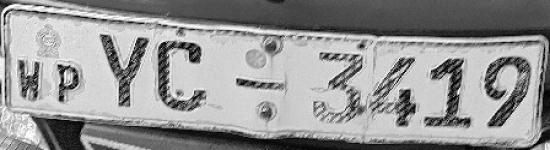-: (232, 75, 287, 95)
1: (425, 54, 473, 132)
3: (310, 49, 365, 128)
4: (368, 53, 421, 129)
9: (478, 50, 533, 136)
C: (154, 35, 209, 116)
P: (95, 30, 153, 114), (57, 61, 83, 104)
W: (12, 52, 46, 103)
